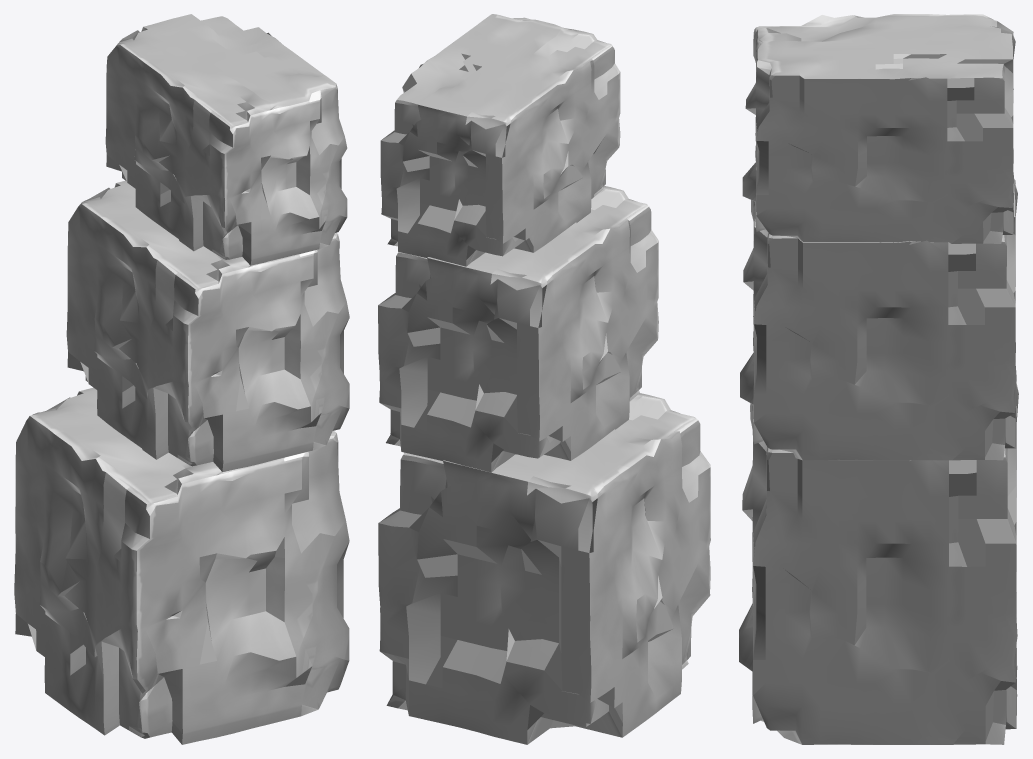
Rendered from RoundStarter.fbx.
3 renders of one model, left to right at view 1: azimuth 30°, elevation 25°; view 2: azimuth 150°, elevation 25°; view 3: azimuth 270°, elevation 25°, orthographic. The views are drawn at different scales.
Parts seen in each view (by area): view 1: Cube.004, Cube.001, Cube.002; view 2: Cube.004, Cube.001, Cube.002; view 3: Cube.004, Cube.001, Cube.002.
Part boxes in pixels (x1,y1,x2,y2): Cube.004: (14, 387, 349, 744); Cube.001: (66, 180, 349, 472); Cube.002: (105, 14, 347, 265); Cube.004: (378, 393, 710, 744); Cube.001: (378, 186, 658, 472); Cube.002: (380, 14, 620, 266); Cube.004: (739, 379, 1018, 744); Cube.001: (740, 179, 1017, 460); Cube.002: (742, 14, 1015, 243).
Bounding box in the file's own units: 60.81 × 159 × 60.07.
Materials: 1 (1 with a texture image).
